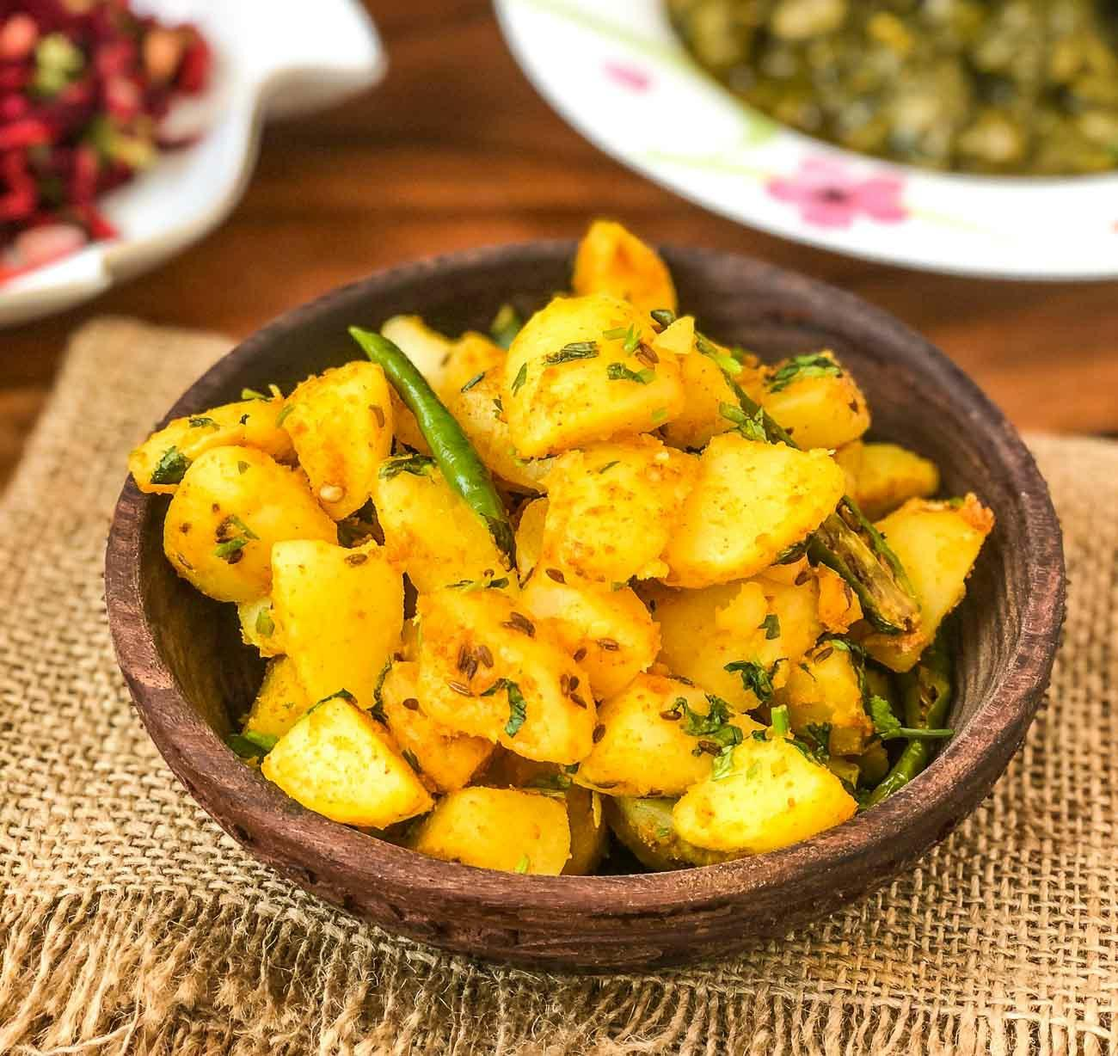AlooMasala: (136, 217, 992, 875)
